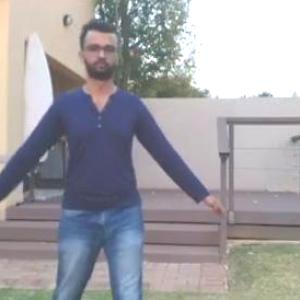land: (10, 47, 202, 299)
